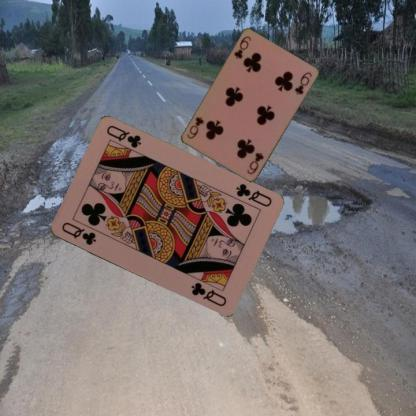6c: (245, 150, 266, 176), (232, 34, 252, 61)
Qc: (233, 180, 273, 209), (58, 219, 97, 247)
